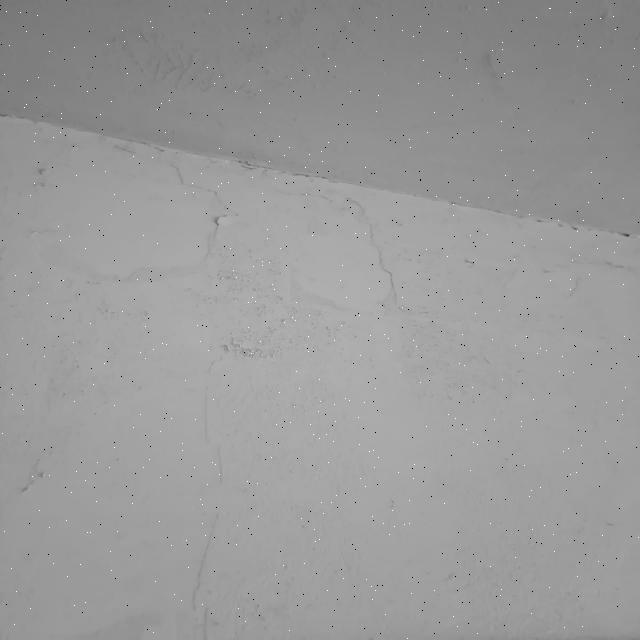stain marks: (1, 288, 155, 504), (84, 0, 364, 104), (16, 174, 222, 288), (274, 175, 408, 315), (178, 371, 236, 640), (395, 308, 522, 415), (139, 134, 404, 177), (433, 238, 640, 289), (193, 314, 342, 370), (460, 36, 536, 109)
